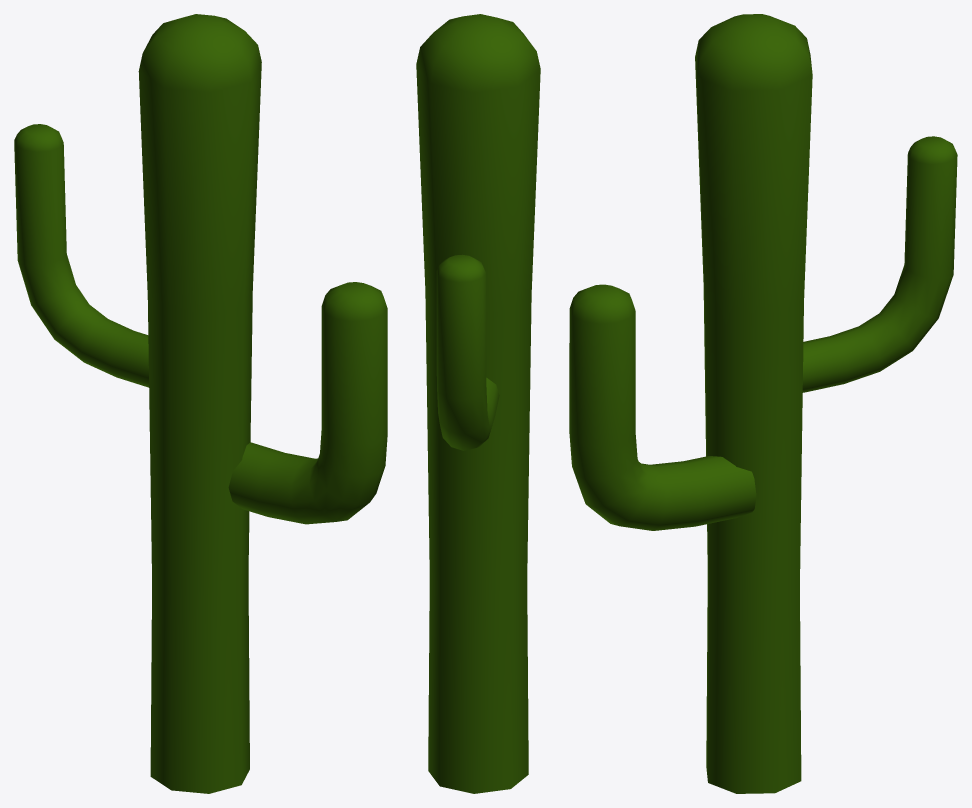
The model's file is Cactus.fbx.
The picture shows the model from 3 angles, left to right: view 1: azimuth 30°, elevation 25°; view 2: azimuth 150°, elevation 25°; view 3: azimuth 270°, elevation 25°; orthographic projection.
Parts seen in each view (by area): view 1: Capsule002, Line003, Line004; view 2: Capsule002, Line004; view 3: Capsule002, Line003, Line004.
Boxes of the visible parts, x1=… form: Capsule002: x1=138, y1=14, x2=261, y2=793; Line003: x1=228, y1=282, x2=387, y2=524; Line004: x1=14, y1=124, x2=148, y2=387; Capsule002: x1=416, y1=14, x2=540, y2=793; Line004: x1=436, y1=254, x2=499, y2=450; Capsule002: x1=695, y1=14, x2=812, y2=793; Line003: x1=569, y1=284, x2=756, y2=530; Line004: x1=802, y1=136, x2=957, y2=392.
Bounding box in the file's own units: 93.92 × 336 × 157.
